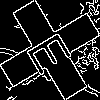E: (25, 25, 81, 78)
